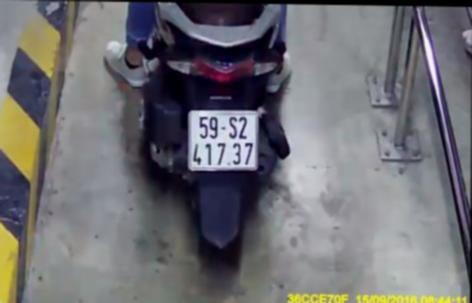License_Plate: (182, 106, 265, 174)
